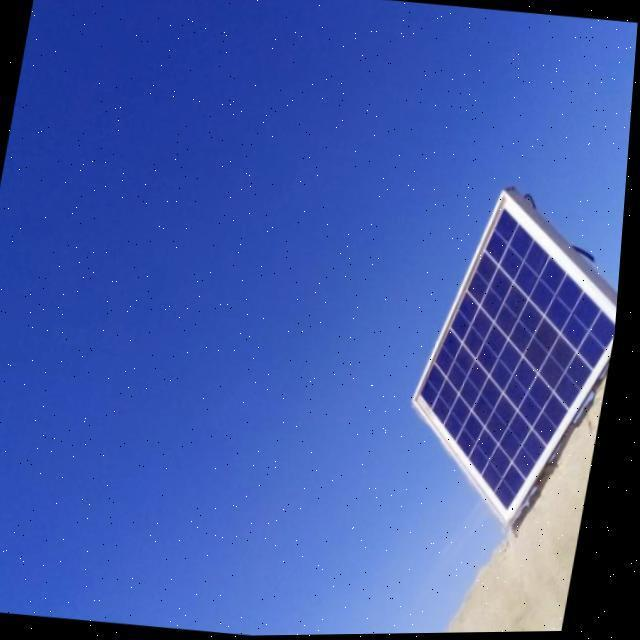Normal Solar Panel: (398, 186, 628, 538)
